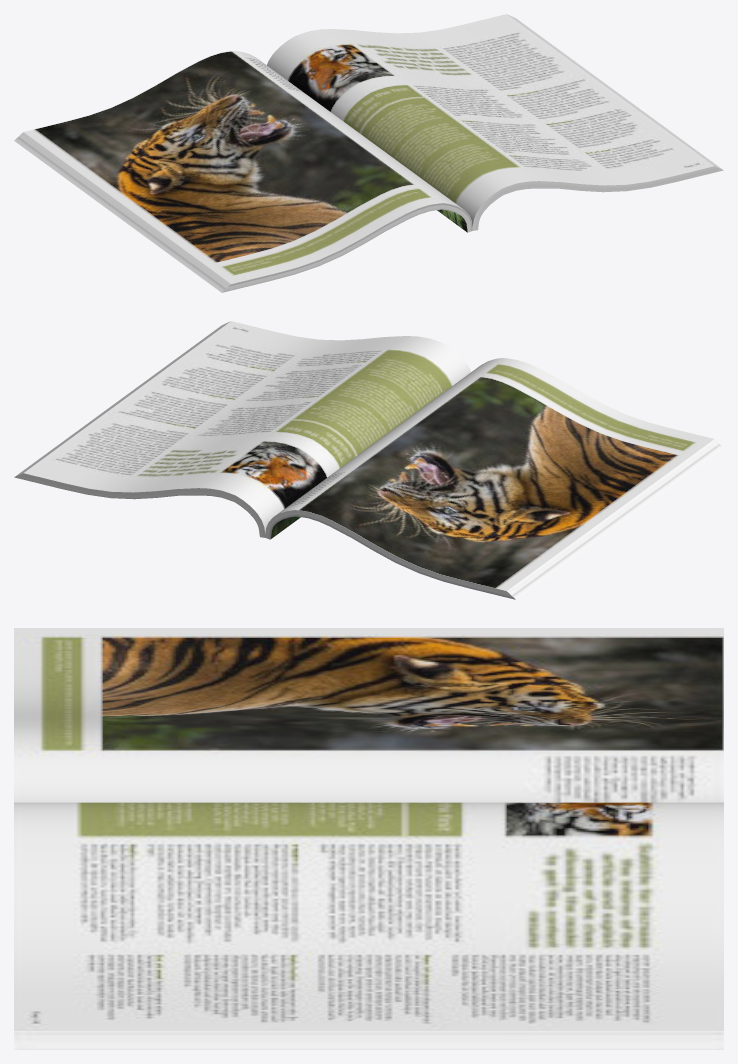
The model's file is revueOuverte.obj.
3 views of the same model, one above another, from view 1: azimuth 30°, elevation 25°; view 2: azimuth 150°, elevation 25°; view 3: azimuth 270°, elevation 25° (orthographic). The views are drawn at different scales.
Visible parts, largest first — view 1: Plane; view 2: Plane; view 3: Plane.
Part boxes in pixels (<box>): Plane: <box>14,14,723,292</box>; Plane: <box>14,321,723,599</box>; Plane: <box>14,628,723,1049</box>.
Size of the model in its own units: 39.27 by 2.8 by 28.16.
Materials: 1 (1 with a texture image).
